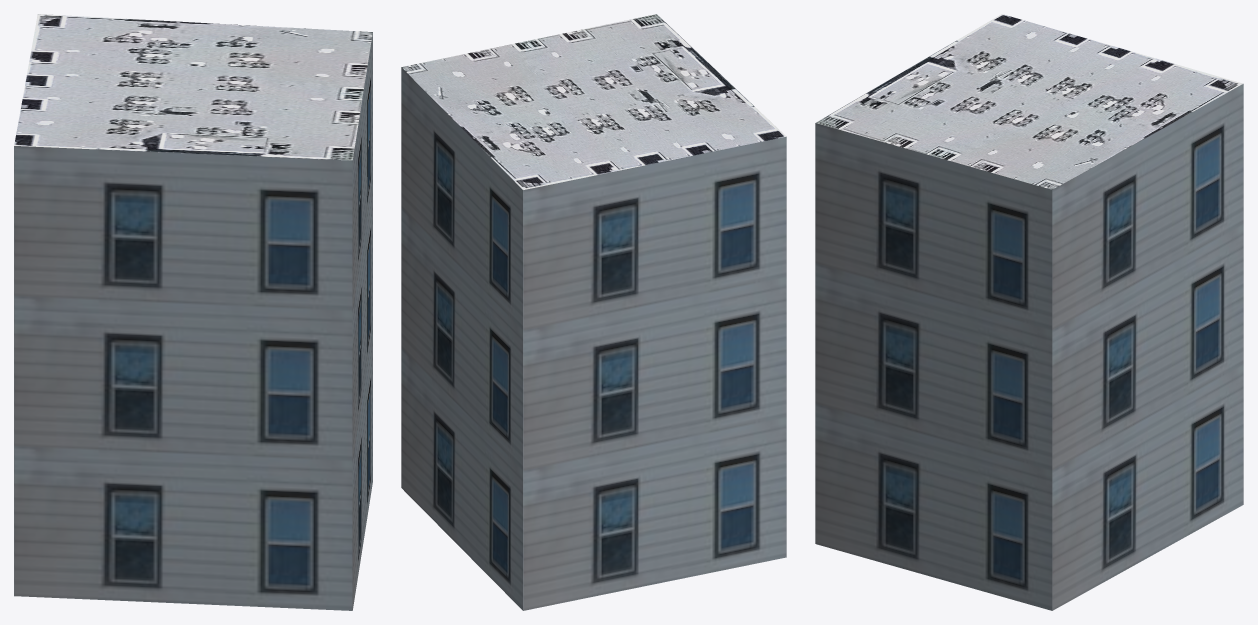
File: ResTex__3864.fbx
3 views of the same model, side by side, from view 1: azimuth 30°, elevation 25°; view 2: azimuth 150°, elevation 25°; view 3: azimuth 270°, elevation 25° (orthographic). The views are drawn at different scales.
Parts seen in each view (by area): view 1: CityEngineMaterial_18_m, CityEngineMaterial_2_m; view 2: CityEngineMaterial_18_m, CityEngineMaterial_2_m; view 3: CityEngineMaterial_18_m, CityEngineMaterial_2_m.
Part boxes in pixels (box(x1,y1,x2,y2)): CityEngineMaterial_18_m: box(14, 32, 372, 610); CityEngineMaterial_2_m: box(14, 14, 372, 160); CityEngineMaterial_18_m: box(401, 67, 786, 610); CityEngineMaterial_2_m: box(401, 14, 785, 189); CityEngineMaterial_18_m: box(815, 84, 1243, 610); CityEngineMaterial_2_m: box(816, 14, 1242, 189).
Bounding box in the file's own units: 8.07 × 9 × 8.3.
Materials: 2 (2 with a texture image).
